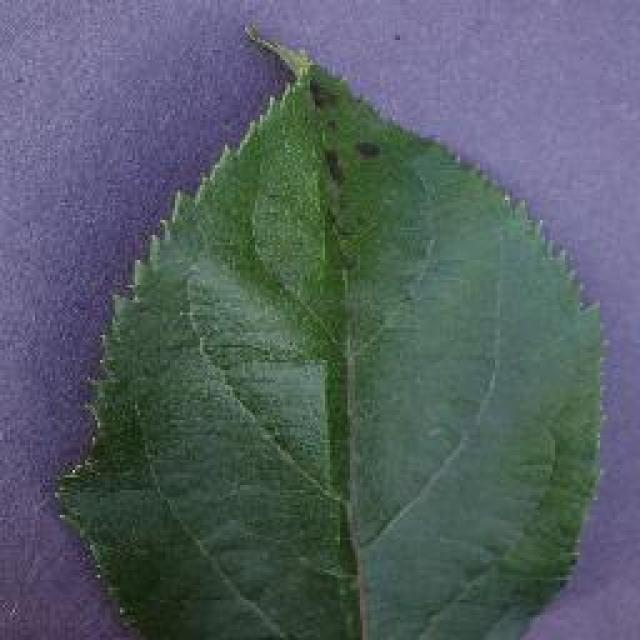apple scab disease: (52, 20, 608, 638)
